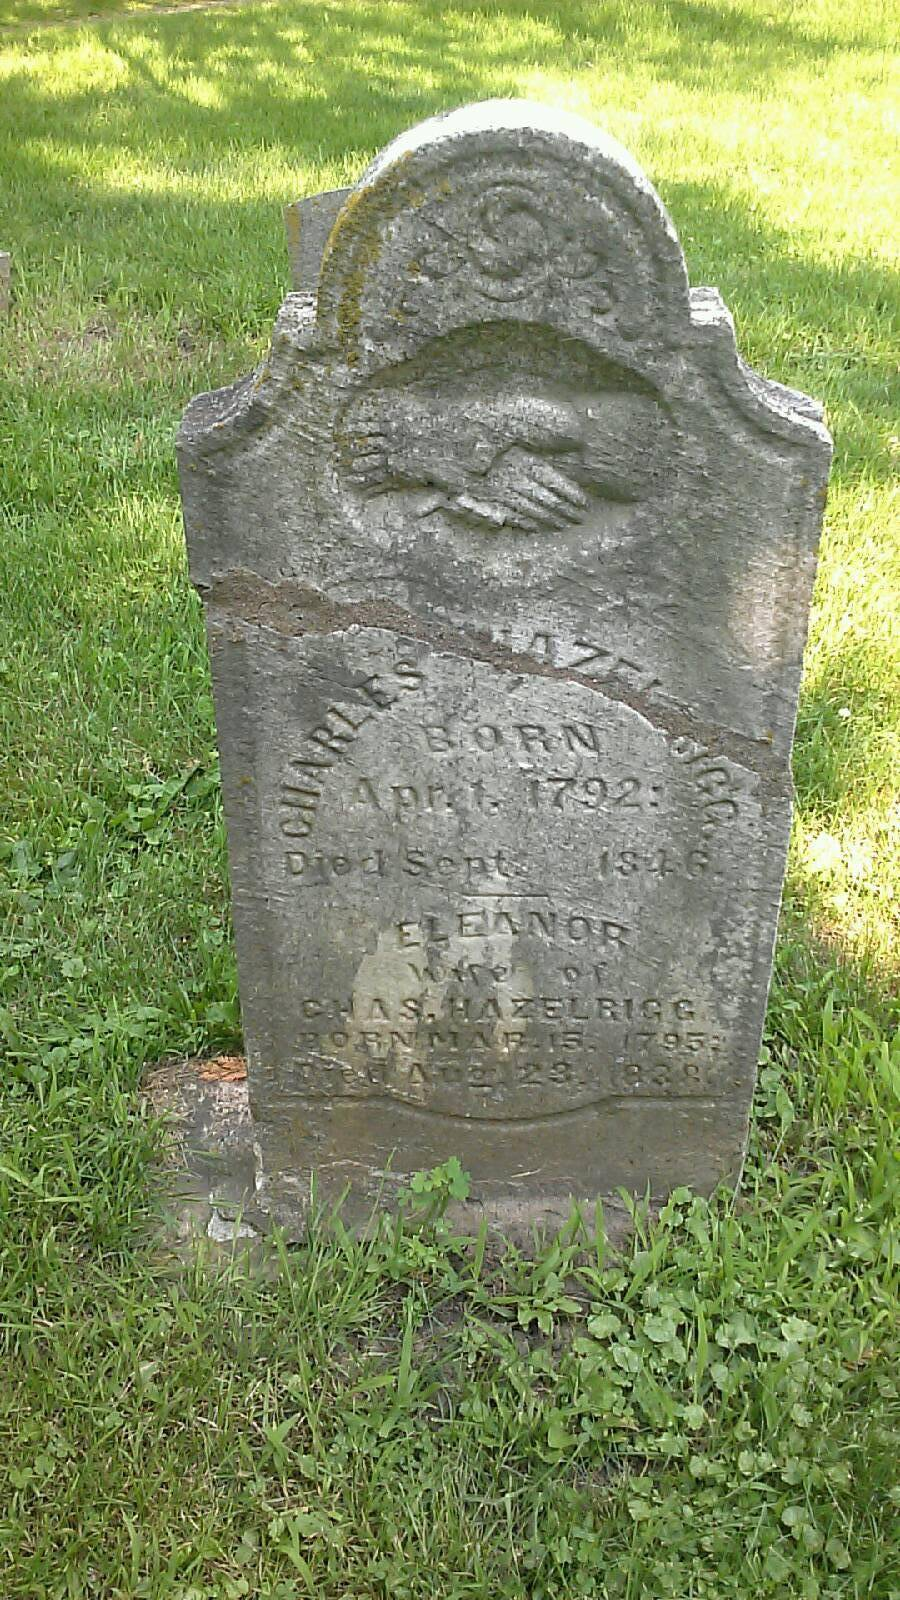upright: (167, 113, 827, 1205)
